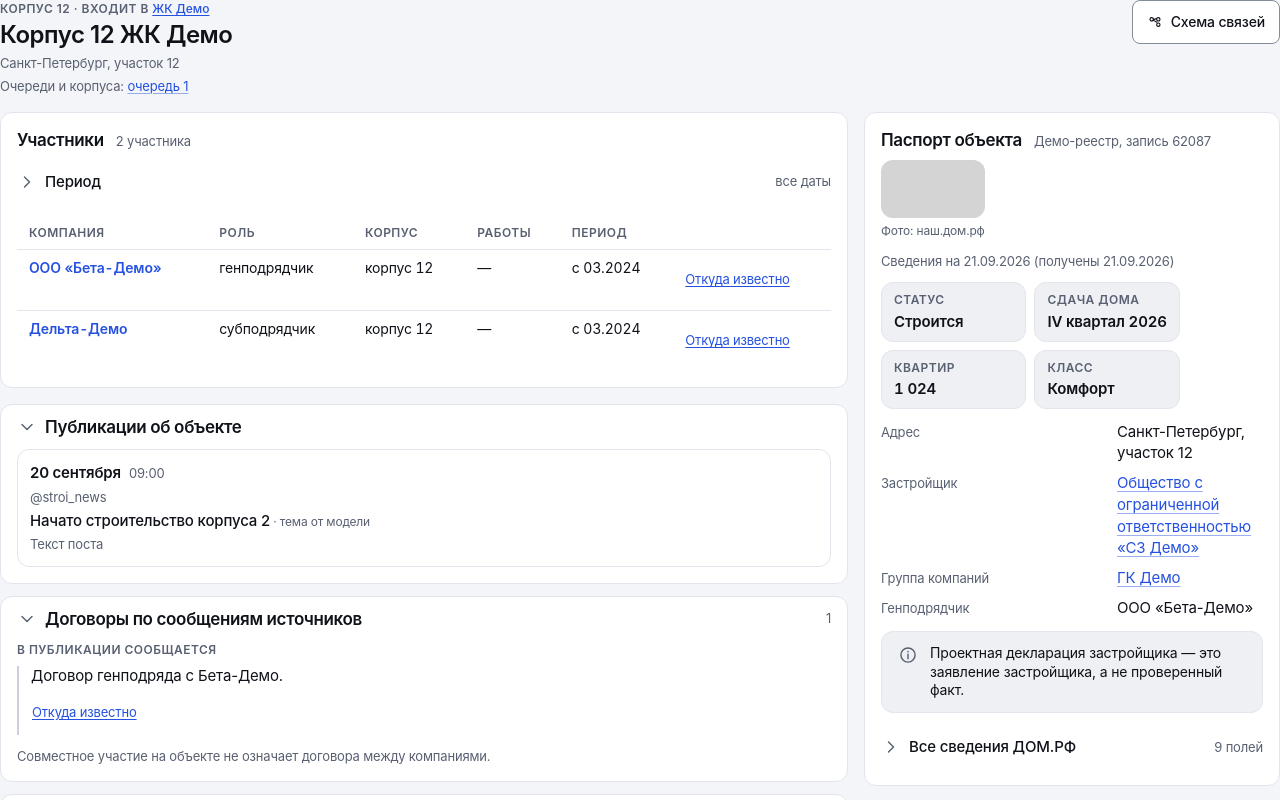
Объект › публикации об объекте — разделом страницы (общей ленты нет): та же карточка, что у компании, пост — окном
This screenshot has width=1280, height=800.
Expected: the text "· тема от модели" is shown, [270,514,370,529]
Click the button with aria-label "20 сентября, @stroi_news, Начато строительство корпуса 2" at (75, 473), box [17,449,831,567]
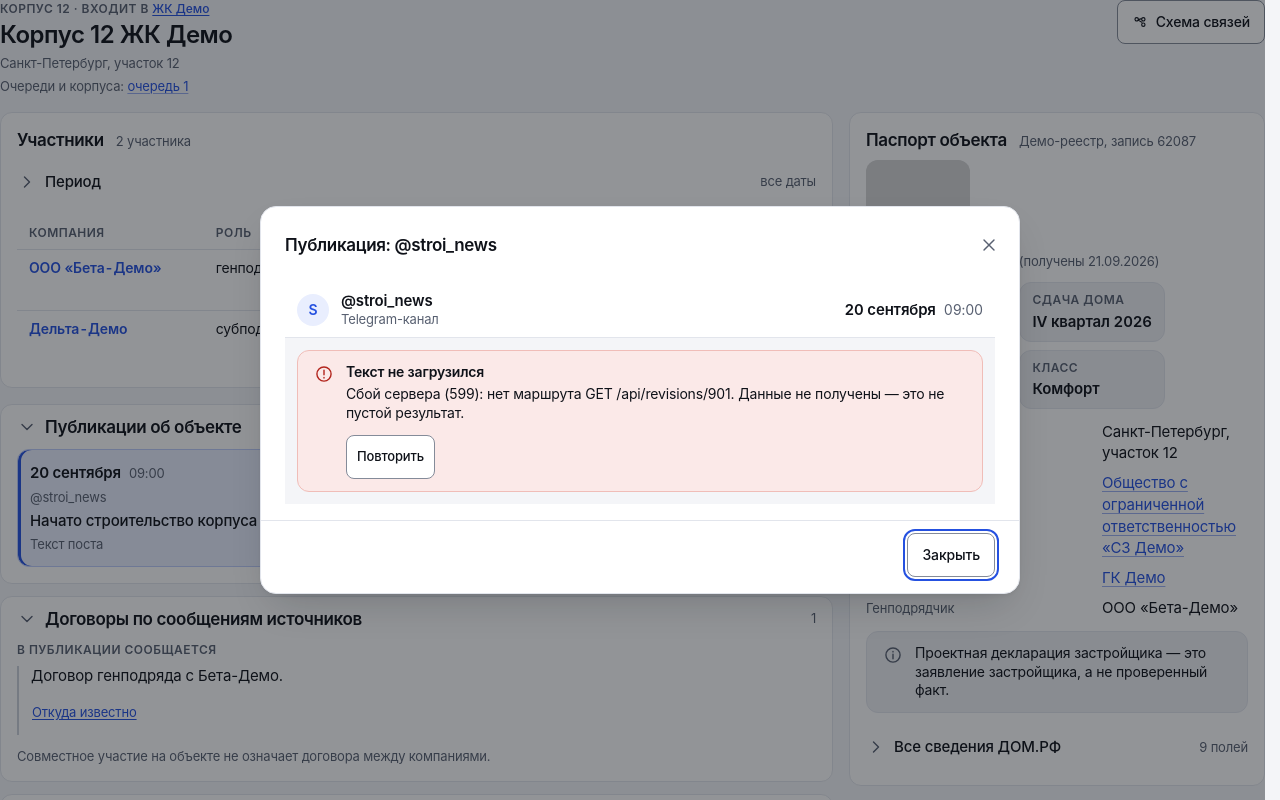
Result: the dialog "Публикация: @stroi_news" is shown at [260,206,1020,594]
